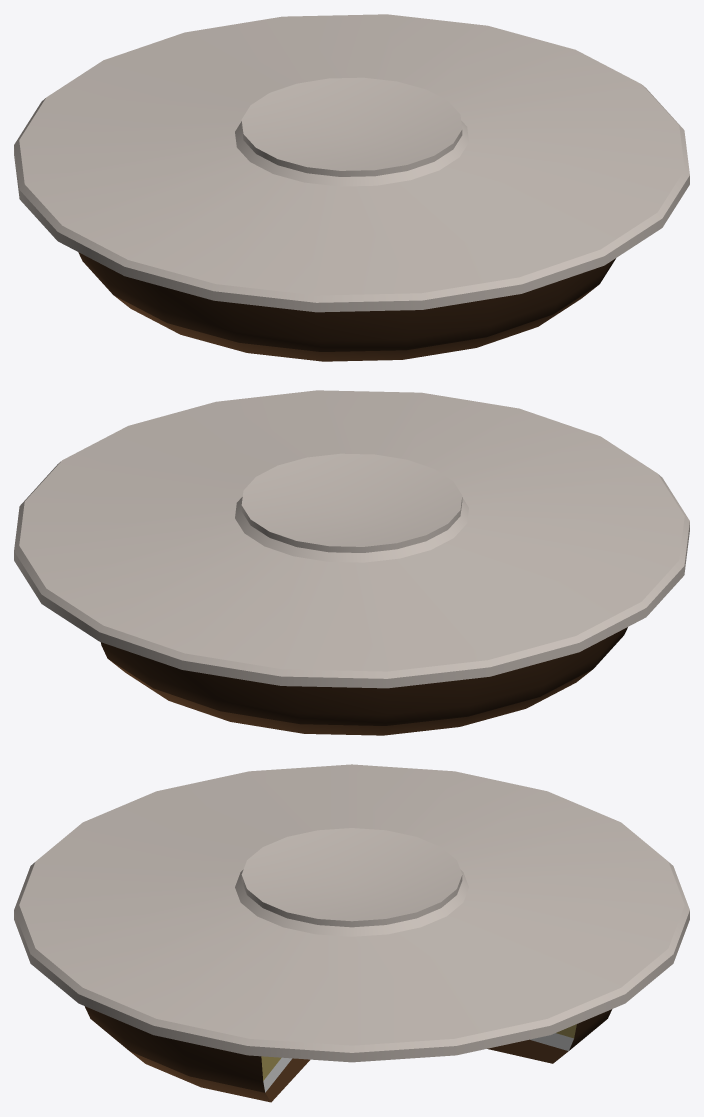
Rendered from Kuchen.fbx.
3 views of the same model, one above another, from view 1: azimuth 30°, elevation 25°; view 2: azimuth 150°, elevation 25°; view 3: azimuth 270°, elevation 25° (orthographic).
Visible parts, largest first — view 1: pCylinder4, pSphere12; view 2: pCylinder4, pSphere12; view 3: pCylinder4, pSphere12.
Boxes of the visible parts, x1=… form: pCylinder4: x1=14, y1=14, x2=689, y2=312; pSphere12: x1=78, y1=252, x2=615, y2=361; pCylinder4: x1=14, y1=390, x2=689, y2=688; pSphere12: x1=100, y1=627, x2=627, y2=735; pCylinder4: x1=14, y1=764, x2=689, y2=1062; pSphere12: x1=85, y1=1006, x2=612, y2=1102.
Size of the model in its own units: 37.06 by 8.76 by 37.06.
